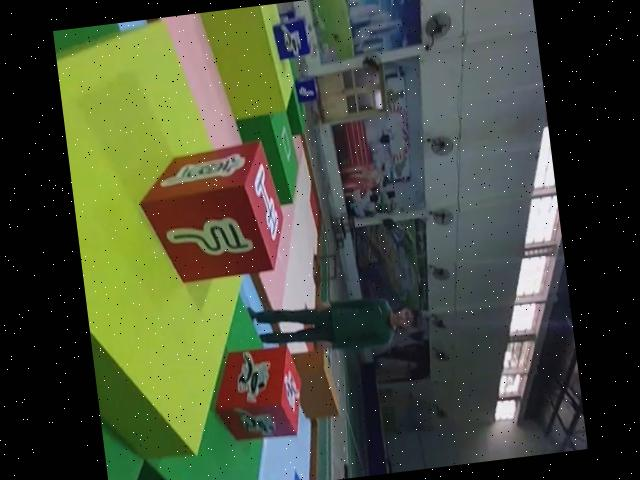R1: (205, 341, 310, 448)
R2 Fake: (131, 134, 294, 289)
